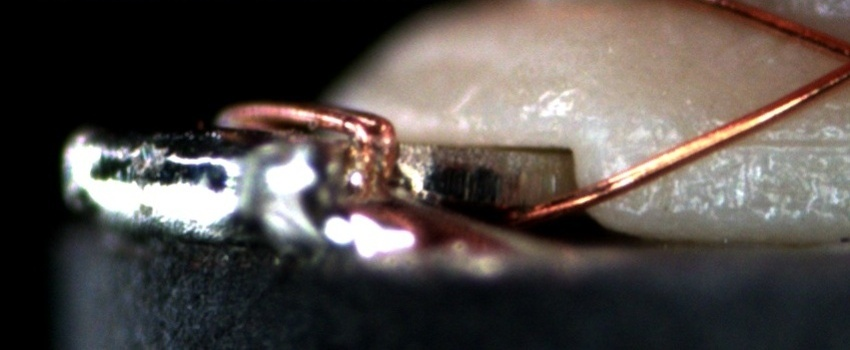DL: (715, 112, 849, 177)
TE: (211, 94, 402, 212)
